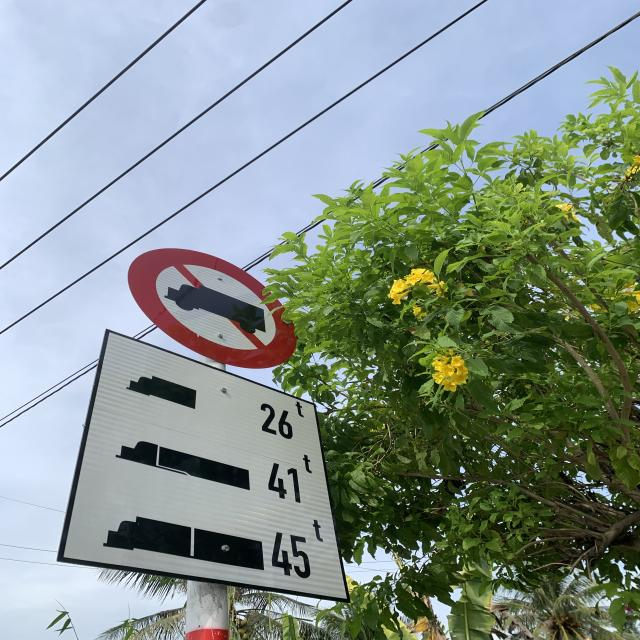Cam_Xe_Tai: (127, 247, 297, 367)
